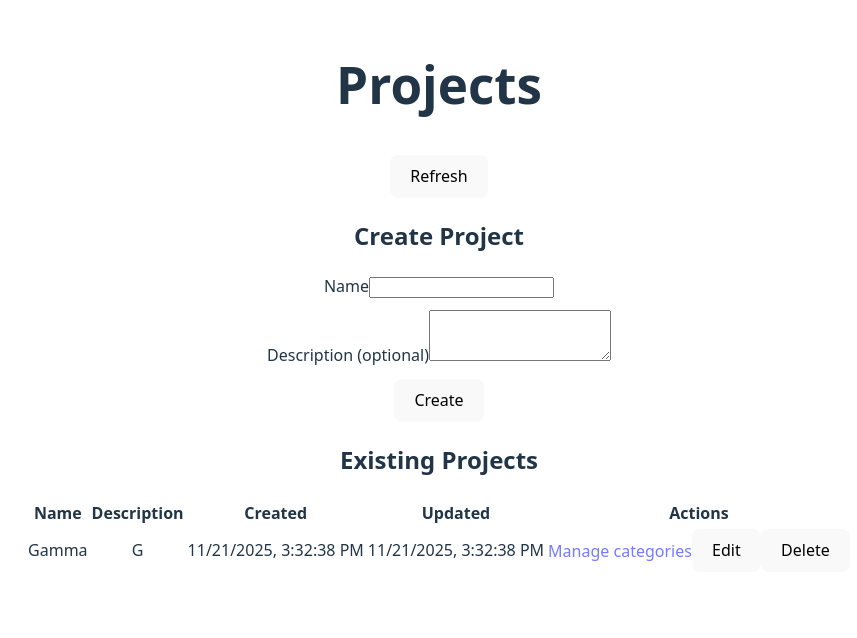
Test: Projects page › updates an existing project via inline edit
Start edit
Click the button "Edit". click: (726, 550)
box: [692,528,761,572]
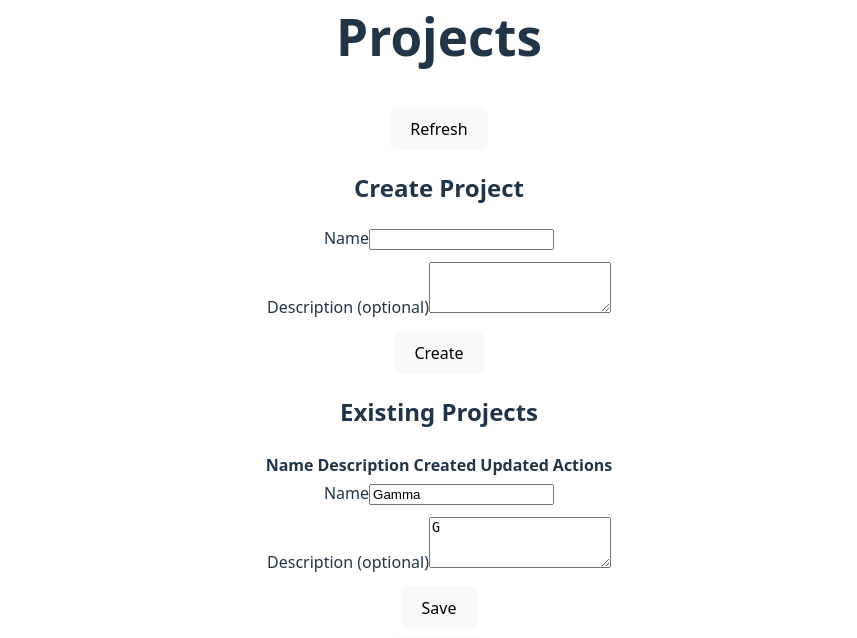
Replace the text in the field showing "Gamma" with "Gamma v2". click: (462, 495)
box: [369,484,554,505]
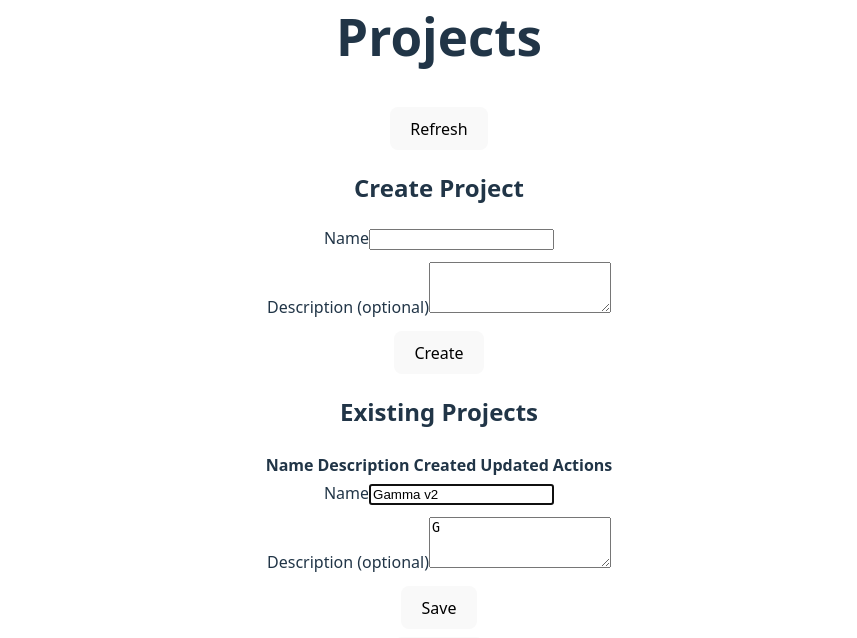
Click the button "Save". click: (439, 608)
box: [401,586,477,630]
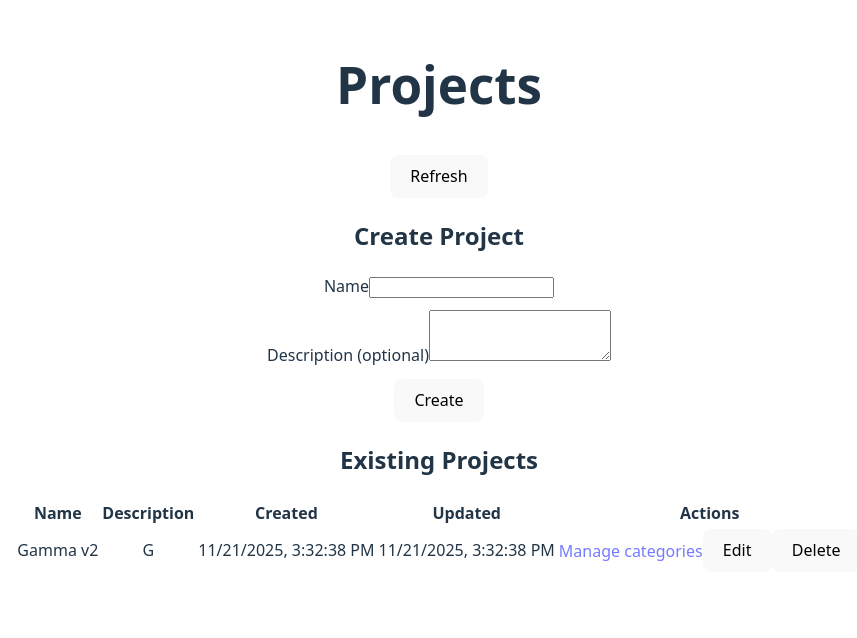
Now the text "Gamma v2" is shown, box [16,528,99,573]
